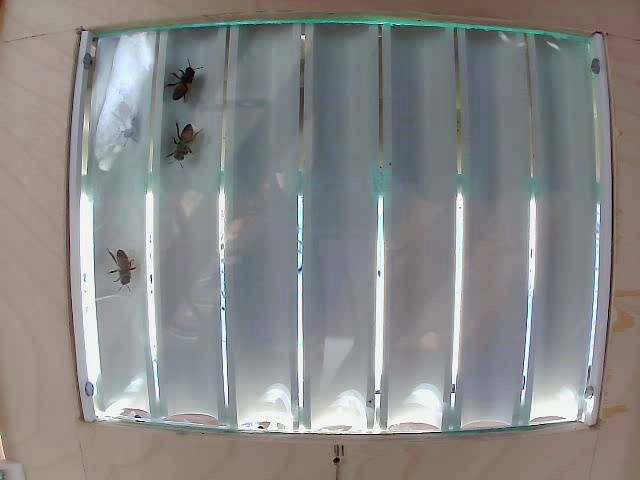bee: (159, 120, 206, 174), (99, 239, 129, 286), (171, 55, 199, 101)
